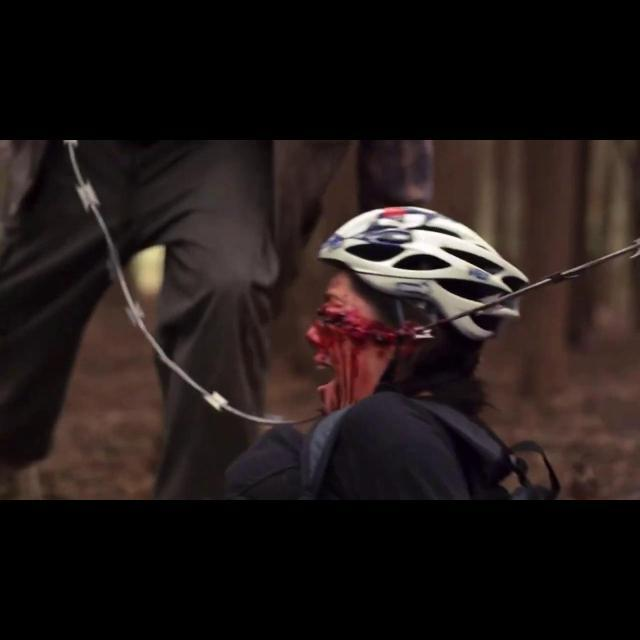blood: (307, 274, 431, 414)
